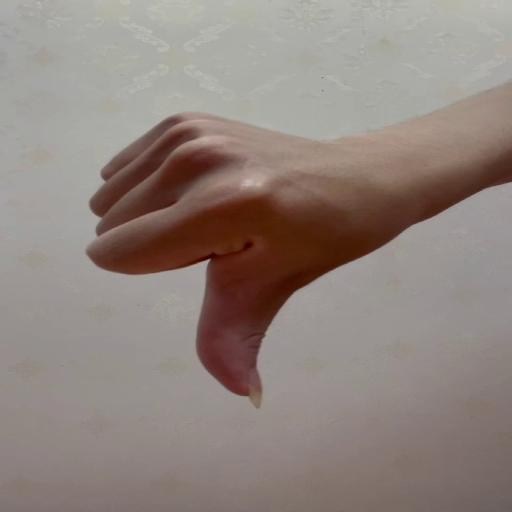thumbs_down: (82, 106, 368, 410)
